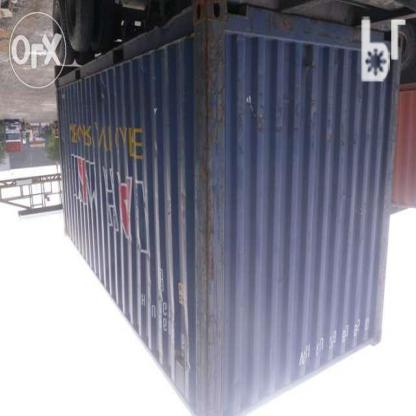Damage: (189, 20, 225, 408), (294, 98, 332, 135), (144, 43, 170, 88), (242, 86, 264, 136), (301, 48, 328, 88), (93, 70, 111, 110)
